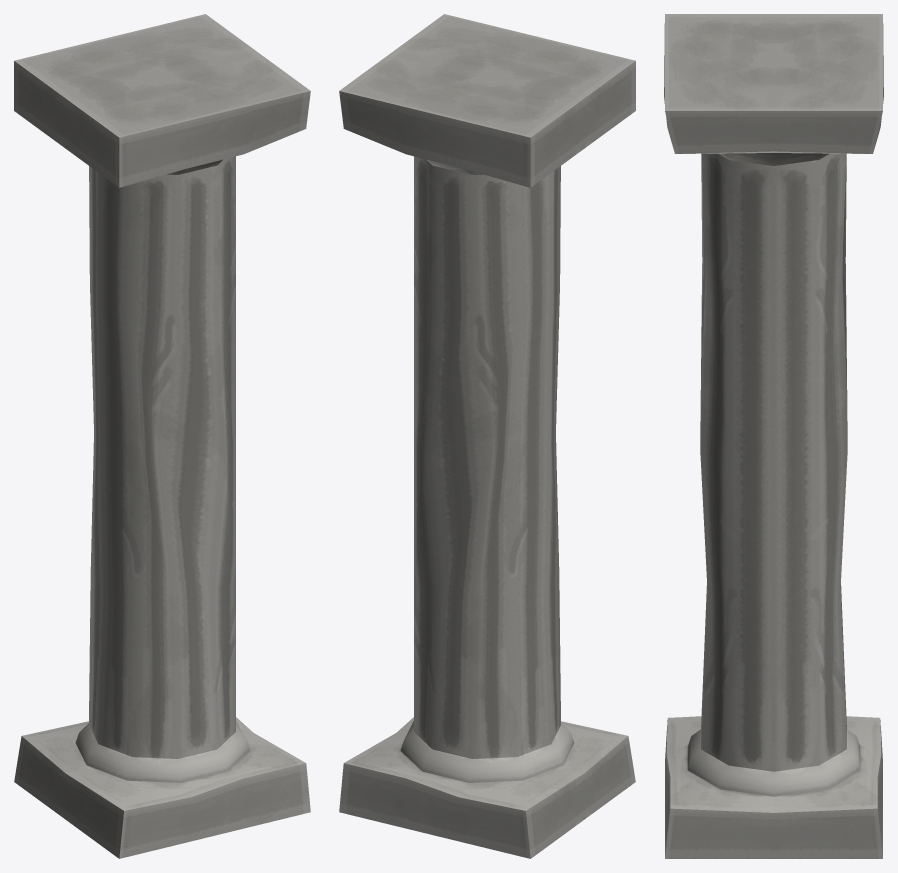
File: MarblePillar01_Geo.fbx
3 views of the same model, side by side, from view 1: azimuth 30°, elevation 25°; view 2: azimuth 150°, elevation 25°; view 3: azimuth 270°, elevation 25° (orthographic). The views are drawn at different scales.
Visible parts, largest first — view 1: MarblePillar01_Geo; view 2: MarblePillar01_Geo; view 3: MarblePillar01_Geo.
Boxes of the visible parts, x1=… form: MarblePillar01_Geo: x1=14, y1=14, x2=310, y2=858; MarblePillar01_Geo: x1=339, y1=14, x2=635, y2=858; MarblePillar01_Geo: x1=664, y1=14, x2=883, y2=858.
Bounding box in the file's own units: 9.01 × 32.25 × 8.59.
